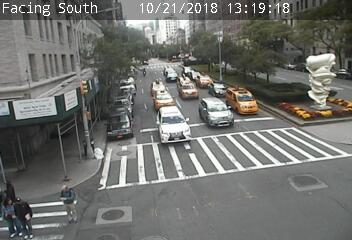car: (157, 106, 191, 143), (199, 97, 234, 128), (226, 87, 259, 115), (178, 77, 199, 98), (154, 91, 176, 110), (209, 83, 228, 96), (151, 81, 165, 94), (198, 75, 213, 87)
